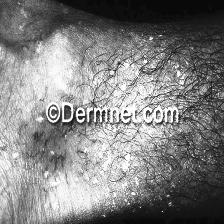Benign Marking or Mole: (79, 145, 134, 183), (111, 65, 142, 93)
